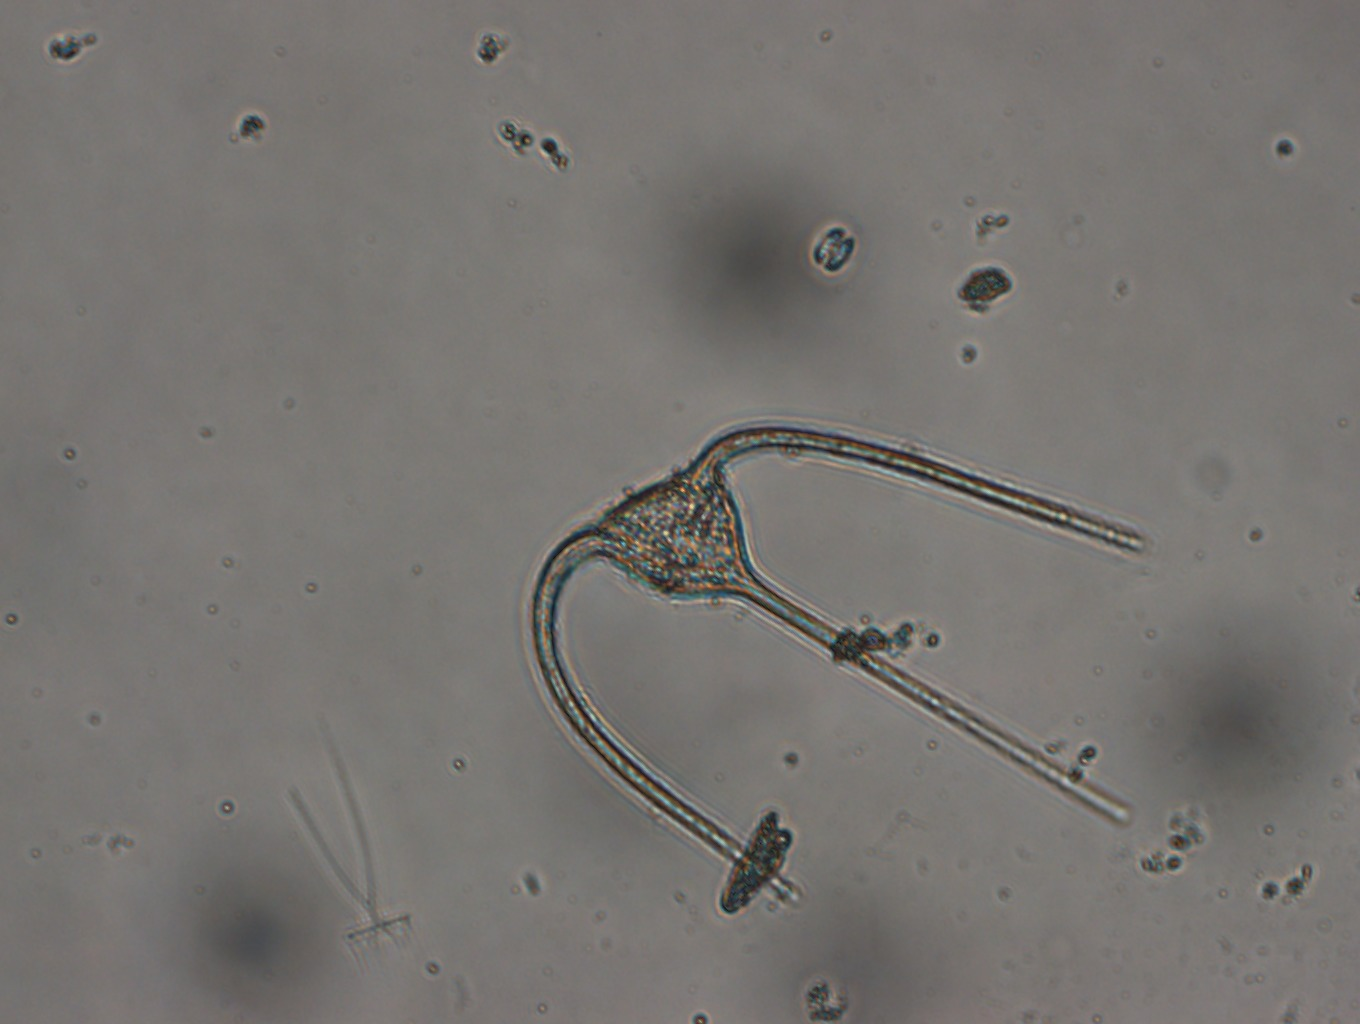ceratium trichoceros: (518, 421, 1159, 906)
